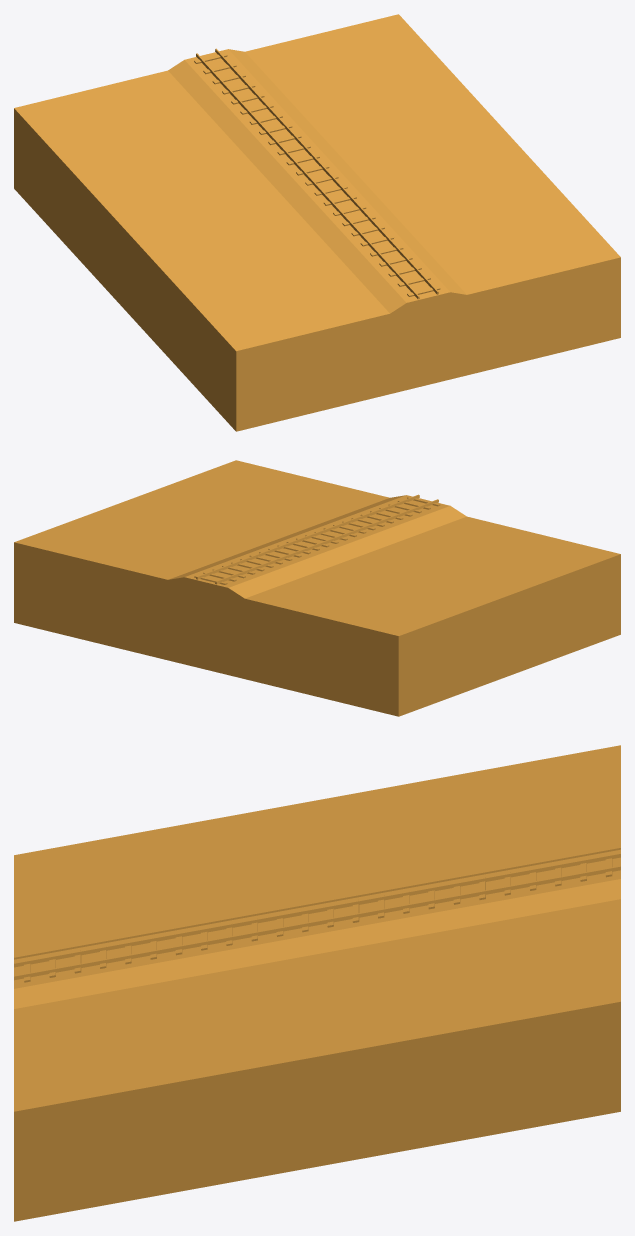
File: tile-rail-hill.glb
The picture shows the model from 3 angles, top to bottom: view 1: azimuth 30°, elevation 25°; view 2: azimuth 150°, elevation 25°; view 3: azimuth 270°, elevation 25°; orthographic projection. The views are drawn at different scales.
Parts seen in each view (by area): view 1: tile-rail-hill; view 2: tile-rail-hill; view 3: tile-rail-hill.
Boxes of the visible parts, box(x1,y1,x2,y2) form: tile-rail-hill: box(14, 14, 620, 431); tile-rail-hill: box(14, 460, 620, 716); tile-rail-hill: box(14, 745, 620, 1221).
Bounding box in the file's own units: 30 × 12.75 × 30.
